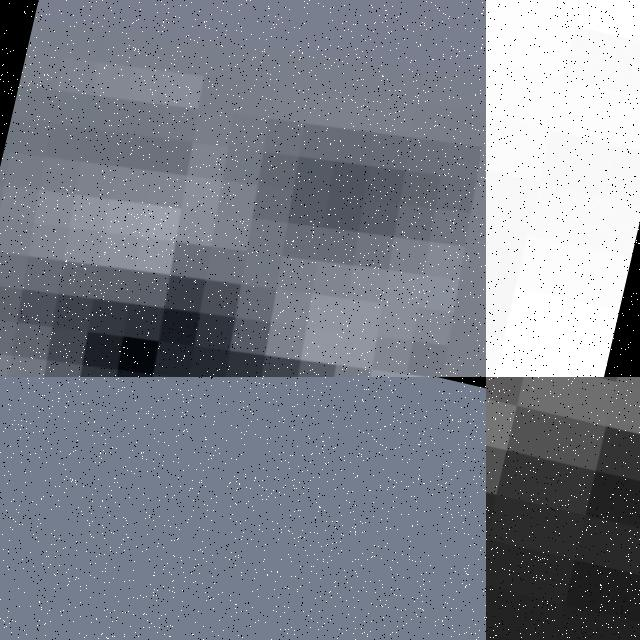drone: (0, 0, 486, 377)
